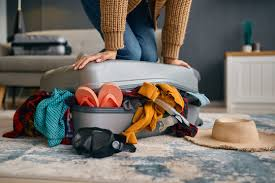suitcase: (38, 58, 204, 141)
